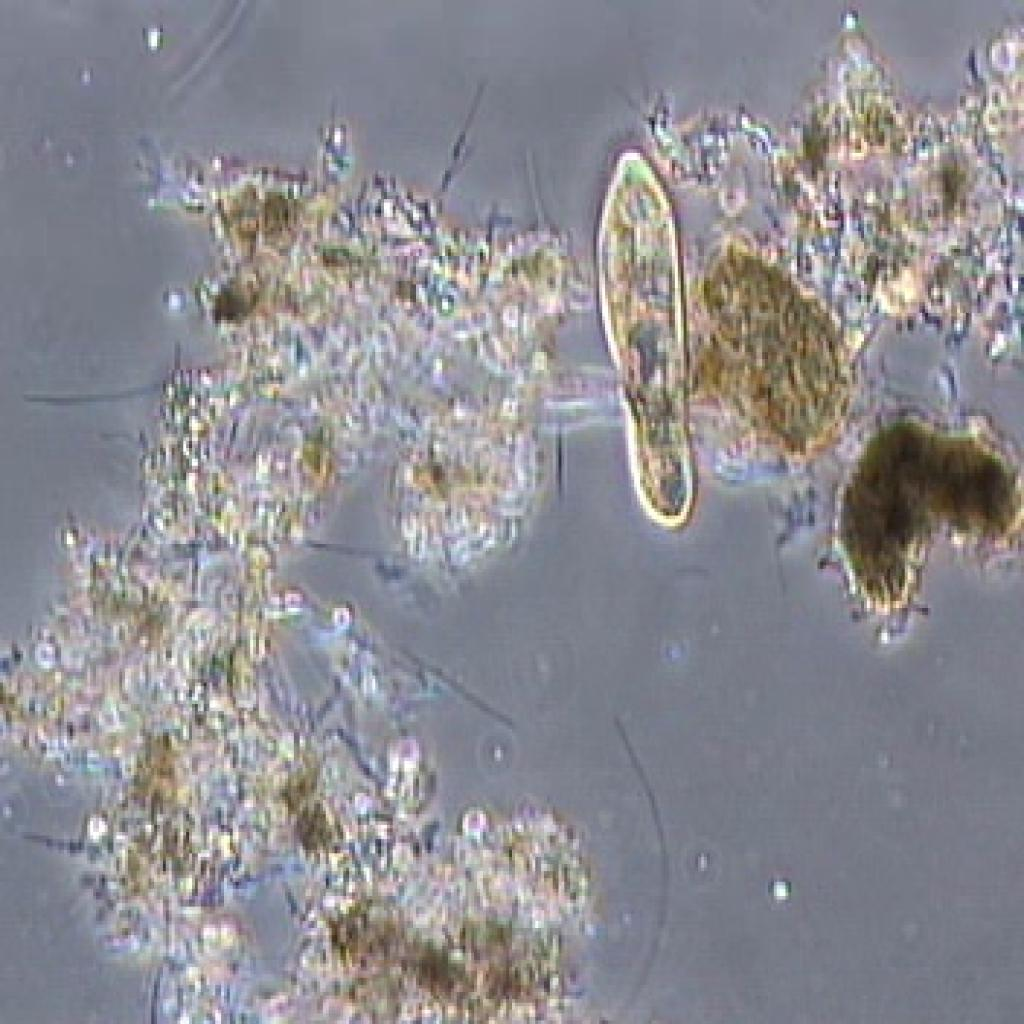Paramecium: (574, 132, 732, 544)
